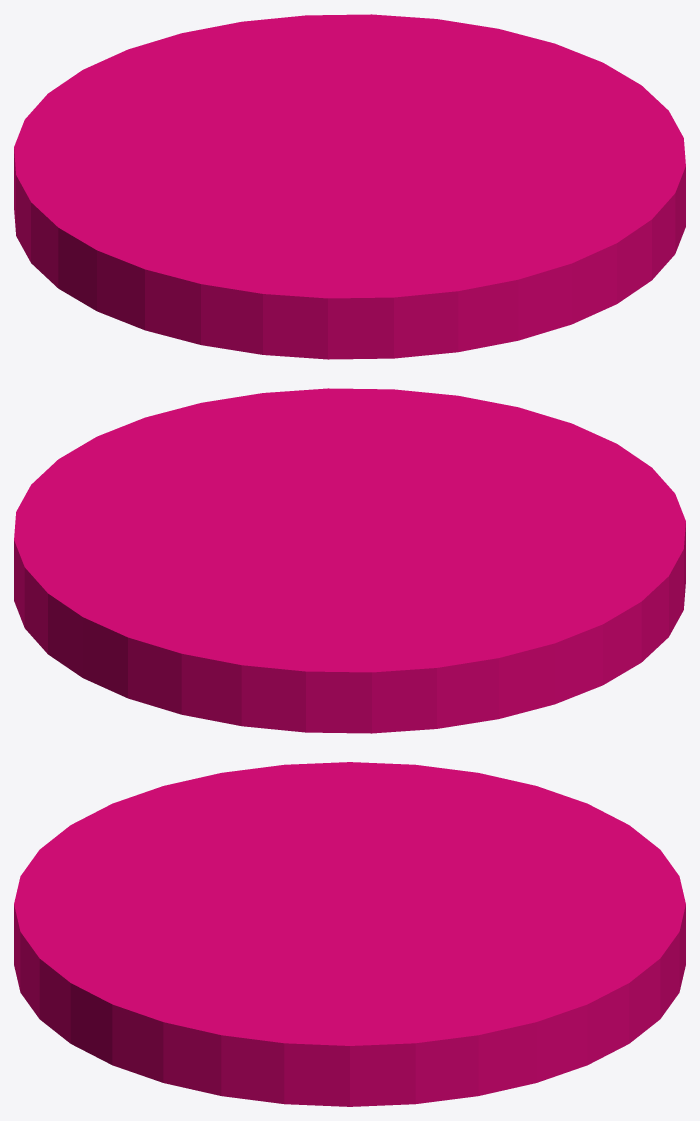
The model's file is table.glb.
3 views of the same model, one above another, from view 1: azimuth 30°, elevation 25°; view 2: azimuth 150°, elevation 25°; view 3: azimuth 270°, elevation 25° (orthographic).
Parts seen in each view (by area): view 1: Cylinder; view 2: Cylinder; view 3: Cylinder.
Part boxes in pixels (x1=…): Cylinder: x1=14, y1=14, x2=685, y2=359; Cylinder: x1=14, y1=388, x2=685, y2=733; Cylinder: x1=14, y1=762, x2=685, y2=1106.
Size of what is drawn, in the model's own units: 6 by 0.6 by 6.
